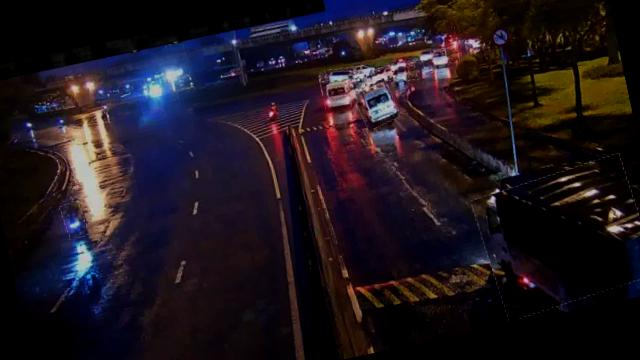Bike: (60, 200, 88, 240)
Bus: (353, 78, 400, 129), (320, 74, 358, 109), (396, 57, 426, 82)
Car: (324, 64, 359, 86), (365, 65, 394, 86)
Truck: (471, 154, 640, 319)
